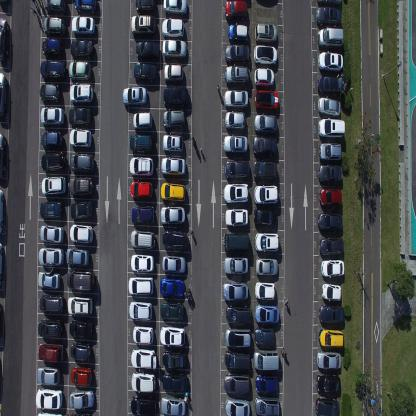car: (67, 269, 95, 292), (318, 303, 346, 326), (68, 174, 94, 198), (162, 227, 188, 251), (225, 326, 251, 350), (317, 73, 343, 97), (130, 394, 158, 416), (35, 387, 63, 409), (317, 118, 345, 140), (253, 349, 279, 372), (317, 51, 343, 74), (161, 346, 188, 368), (39, 59, 66, 81), (253, 302, 280, 324), (223, 349, 250, 371), (223, 372, 250, 394), (317, 27, 344, 49), (224, 304, 252, 325), (253, 158, 277, 182), (133, 60, 158, 83), (130, 14, 155, 37), (253, 44, 278, 67), (254, 89, 279, 112), (316, 372, 341, 395), (160, 322, 186, 344), (131, 346, 157, 368), (130, 370, 156, 392), (160, 155, 186, 177), (160, 180, 186, 202), (162, 85, 188, 107), (130, 228, 156, 250), (68, 223, 94, 245), (224, 64, 250, 86), (224, 182, 250, 204), (254, 232, 280, 254), (254, 394, 280, 416), (316, 5, 342, 27), (317, 211, 343, 233), (318, 328, 344, 350), (316, 349, 342, 371), (127, 274, 154, 295), (38, 247, 65, 268), (222, 280, 249, 301), (69, 82, 93, 105), (71, 14, 95, 37), (128, 298, 153, 320), (130, 202, 155, 224), (69, 318, 94, 340), (41, 175, 66, 197), (129, 155, 154, 177), (129, 132, 154, 154), (161, 108, 186, 130), (40, 151, 65, 173), (40, 105, 65, 127), (67, 60, 92, 82), (252, 136, 277, 158), (122, 85, 148, 106), (224, 158, 250, 179), (253, 183, 279, 204), (318, 236, 344, 257), (160, 394, 187, 414), (161, 370, 188, 390), (160, 274, 184, 296), (160, 204, 184, 226), (161, 16, 185, 38), (70, 151, 94, 173), (42, 15, 66, 37), (39, 341, 63, 363), (254, 112, 278, 134), (318, 163, 342, 185), (160, 297, 185, 318), (161, 252, 186, 273), (37, 269, 62, 290), (223, 134, 248, 155), (68, 295, 94, 315), (223, 232, 249, 252), (223, 256, 249, 276), (223, 396, 250, 415), (70, 199, 92, 222), (130, 178, 153, 200), (70, 38, 93, 60), (255, 22, 278, 44), (319, 141, 342, 163), (319, 186, 342, 208), (130, 252, 154, 273), (135, 40, 159, 61), (162, 38, 186, 59), (223, 0, 248, 20), (224, 207, 249, 227), (69, 389, 95, 408), (224, 44, 250, 63), (70, 365, 92, 387), (253, 66, 275, 88), (224, 110, 246, 132), (66, 247, 89, 268), (40, 223, 63, 244), (69, 127, 92, 148), (253, 206, 277, 226), (254, 373, 278, 393), (39, 294, 64, 313), (315, 396, 340, 415), (163, 62, 184, 84), (39, 82, 60, 104), (42, 36, 63, 58), (227, 22, 249, 43), (254, 280, 276, 301), (318, 97, 340, 118), (37, 365, 60, 385), (38, 318, 62, 337), (224, 90, 249, 108), (132, 323, 154, 343), (132, 110, 152, 132), (40, 129, 62, 149), (256, 256, 278, 276), (254, 326, 276, 346), (321, 258, 344, 277), (163, 0, 187, 18), (162, 132, 183, 152), (70, 342, 91, 362), (40, 199, 62, 218), (68, 107, 91, 125), (0, 15, 9, 59), (321, 283, 341, 302), (73, 0, 97, 15), (0, 131, 7, 180), (0, 71, 7, 119), (42, 0, 64, 15), (135, 0, 157, 14), (0, 188, 4, 234), (0, 240, 3, 288), (37, 410, 62, 415), (66, 410, 91, 415)
